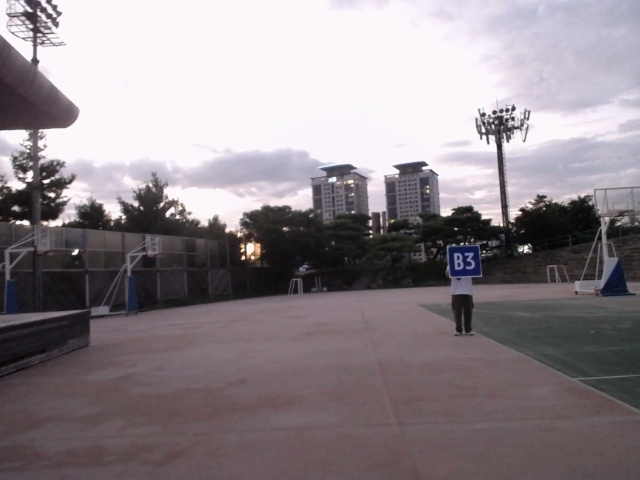delivery_b3: (447, 244, 483, 279)
